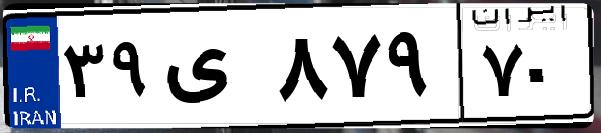0: (525, 38, 570, 115)
3: (57, 26, 110, 100)
7: (330, 28, 385, 110), (475, 38, 525, 113)
8: (270, 28, 330, 110)
9: (385, 28, 445, 110), (110, 28, 158, 98)
ی: (158, 20, 270, 120)
